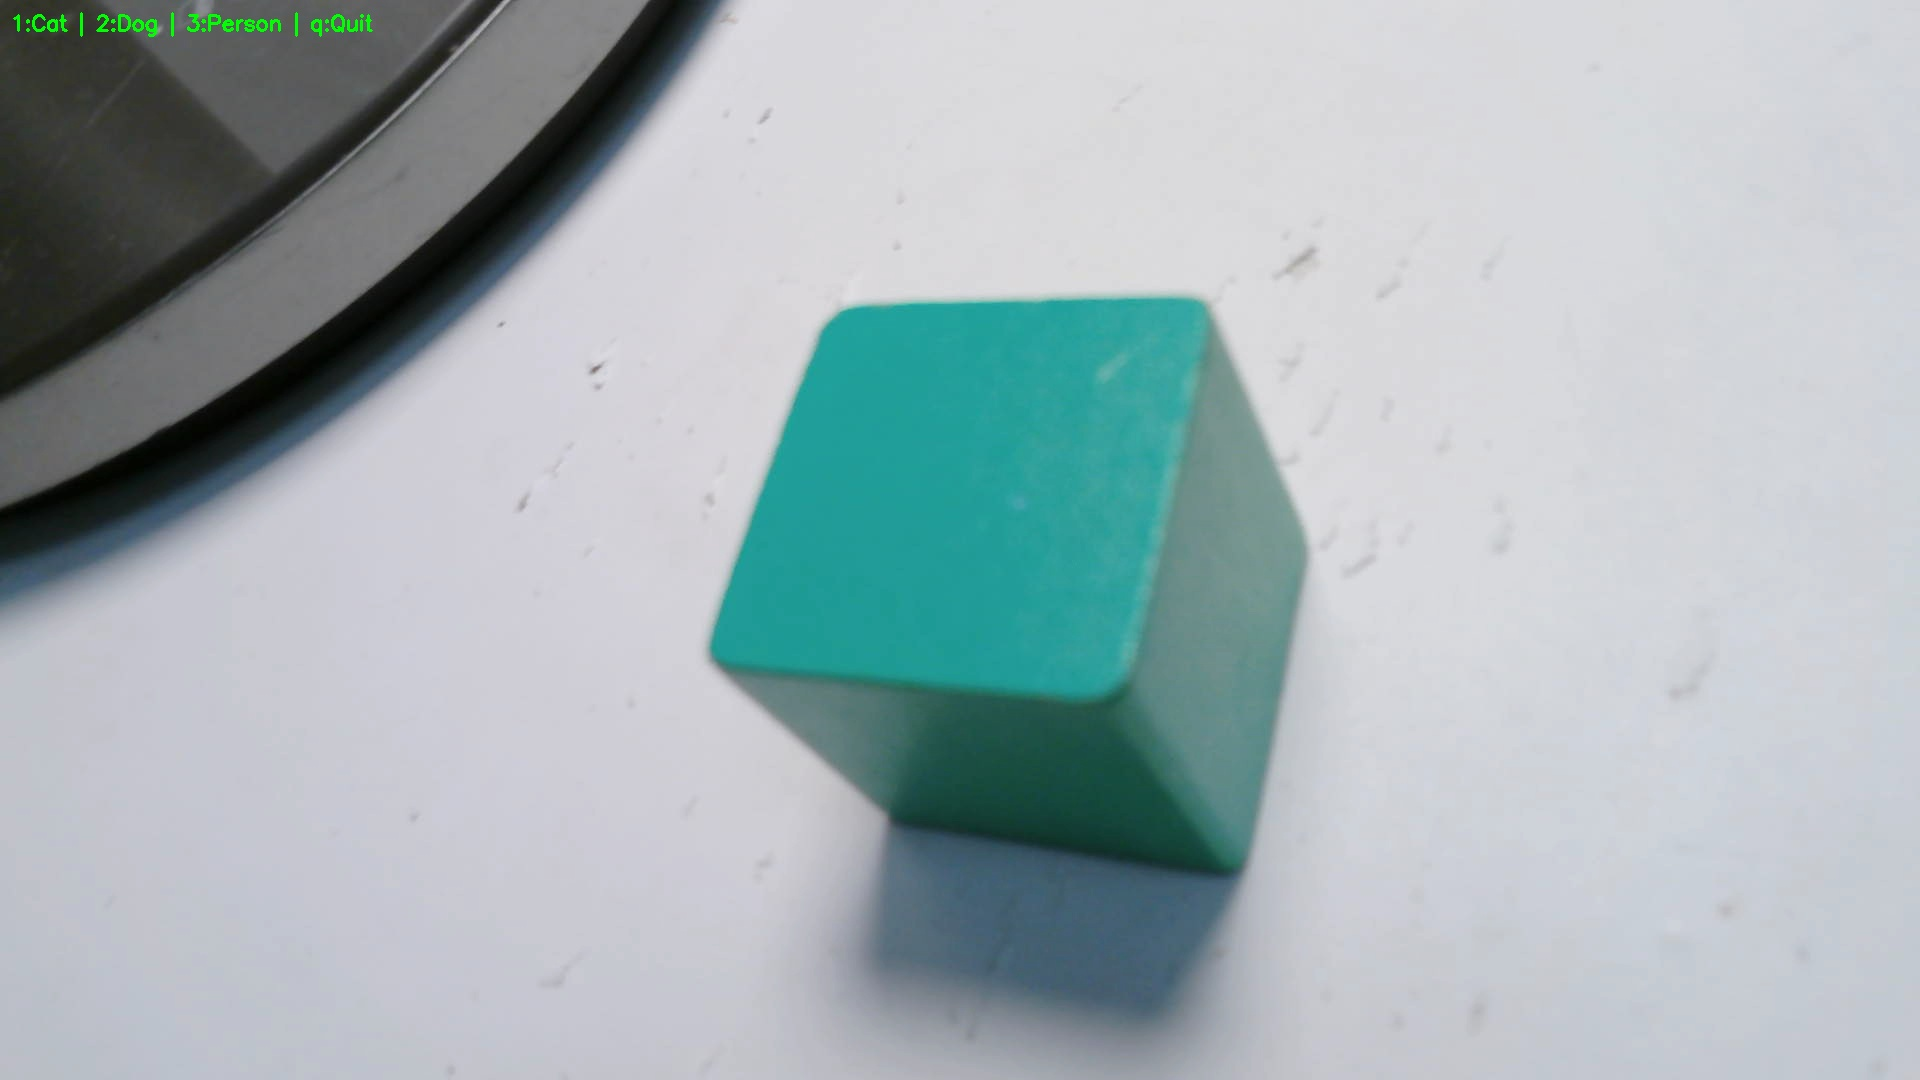green: (702, 298, 1311, 894)
